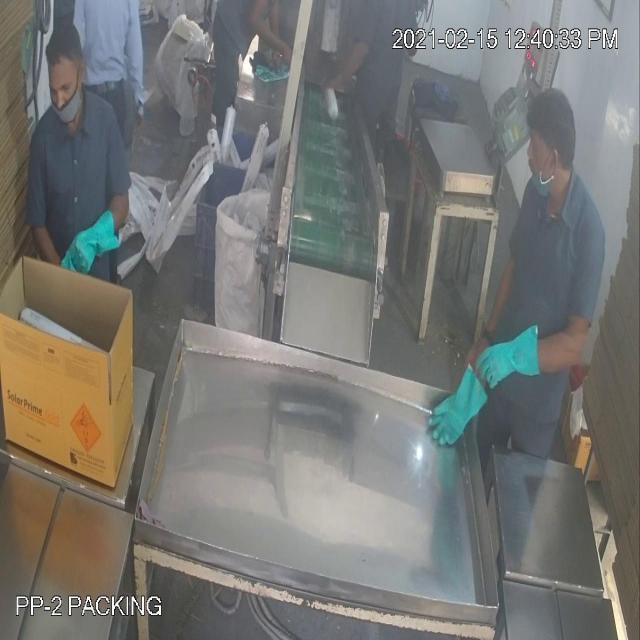No_Gloves: (48, 30, 518, 415)
